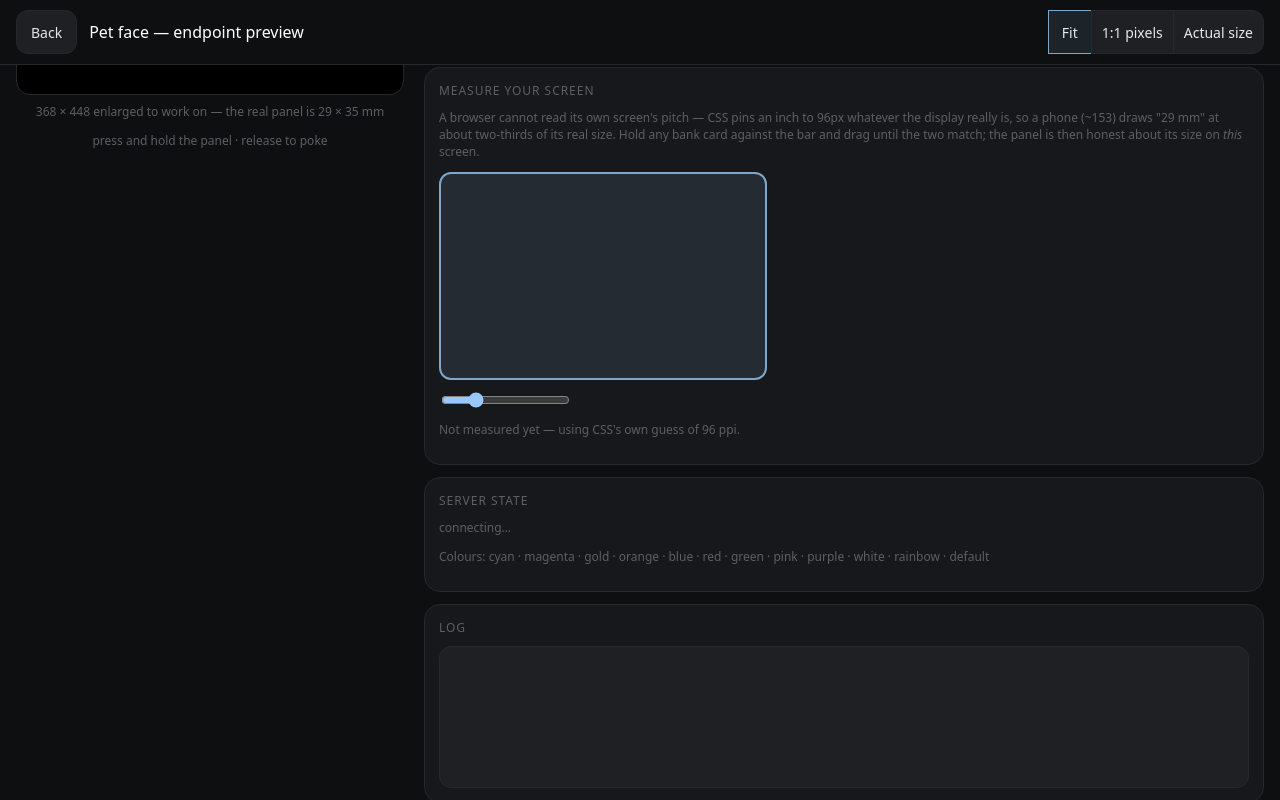
Test: PetFaceScreen › sizes the panel to the measured millimetres once calibrated
(page scrolled)
// A dense phone: a bank card (85.6 mm) measured at 520 CSS px is ~154 CSS ppi.
Set the slider named "Card width in pixels" to "520" at (506, 400), box [441,392,570,408]
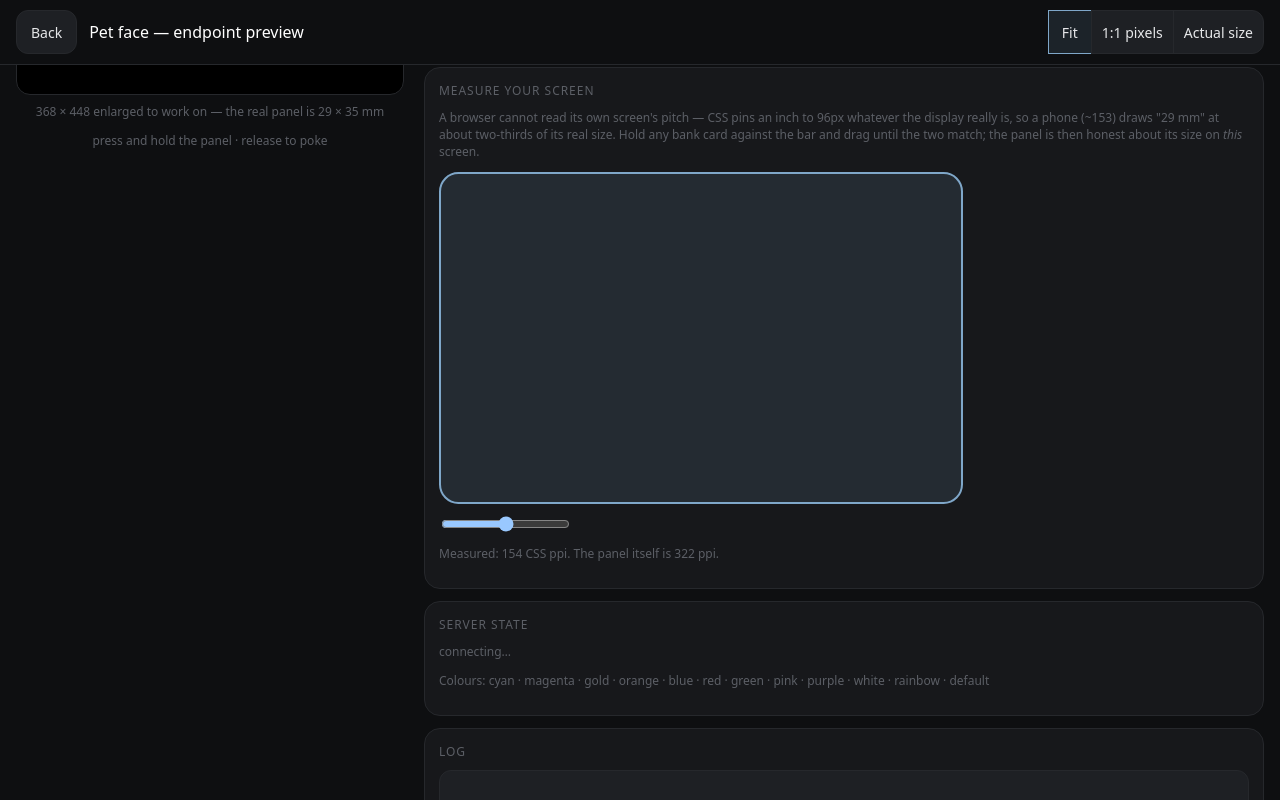
Click the button "Actual size" at (1218, 32), box [1173,10,1264,54]
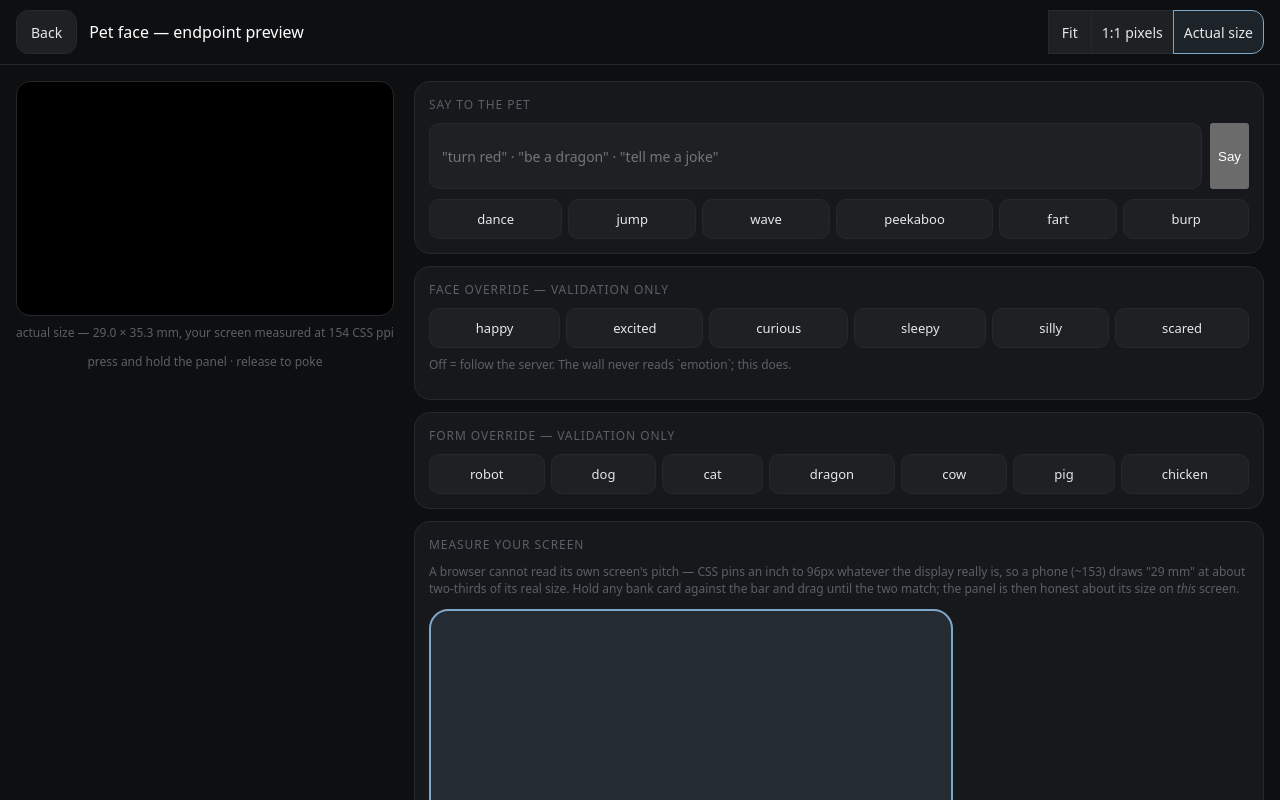
Now the text "actual size — 29.0 × 35.3 mm, your screen measured at 154" is shown, box [16,324,394,341]
